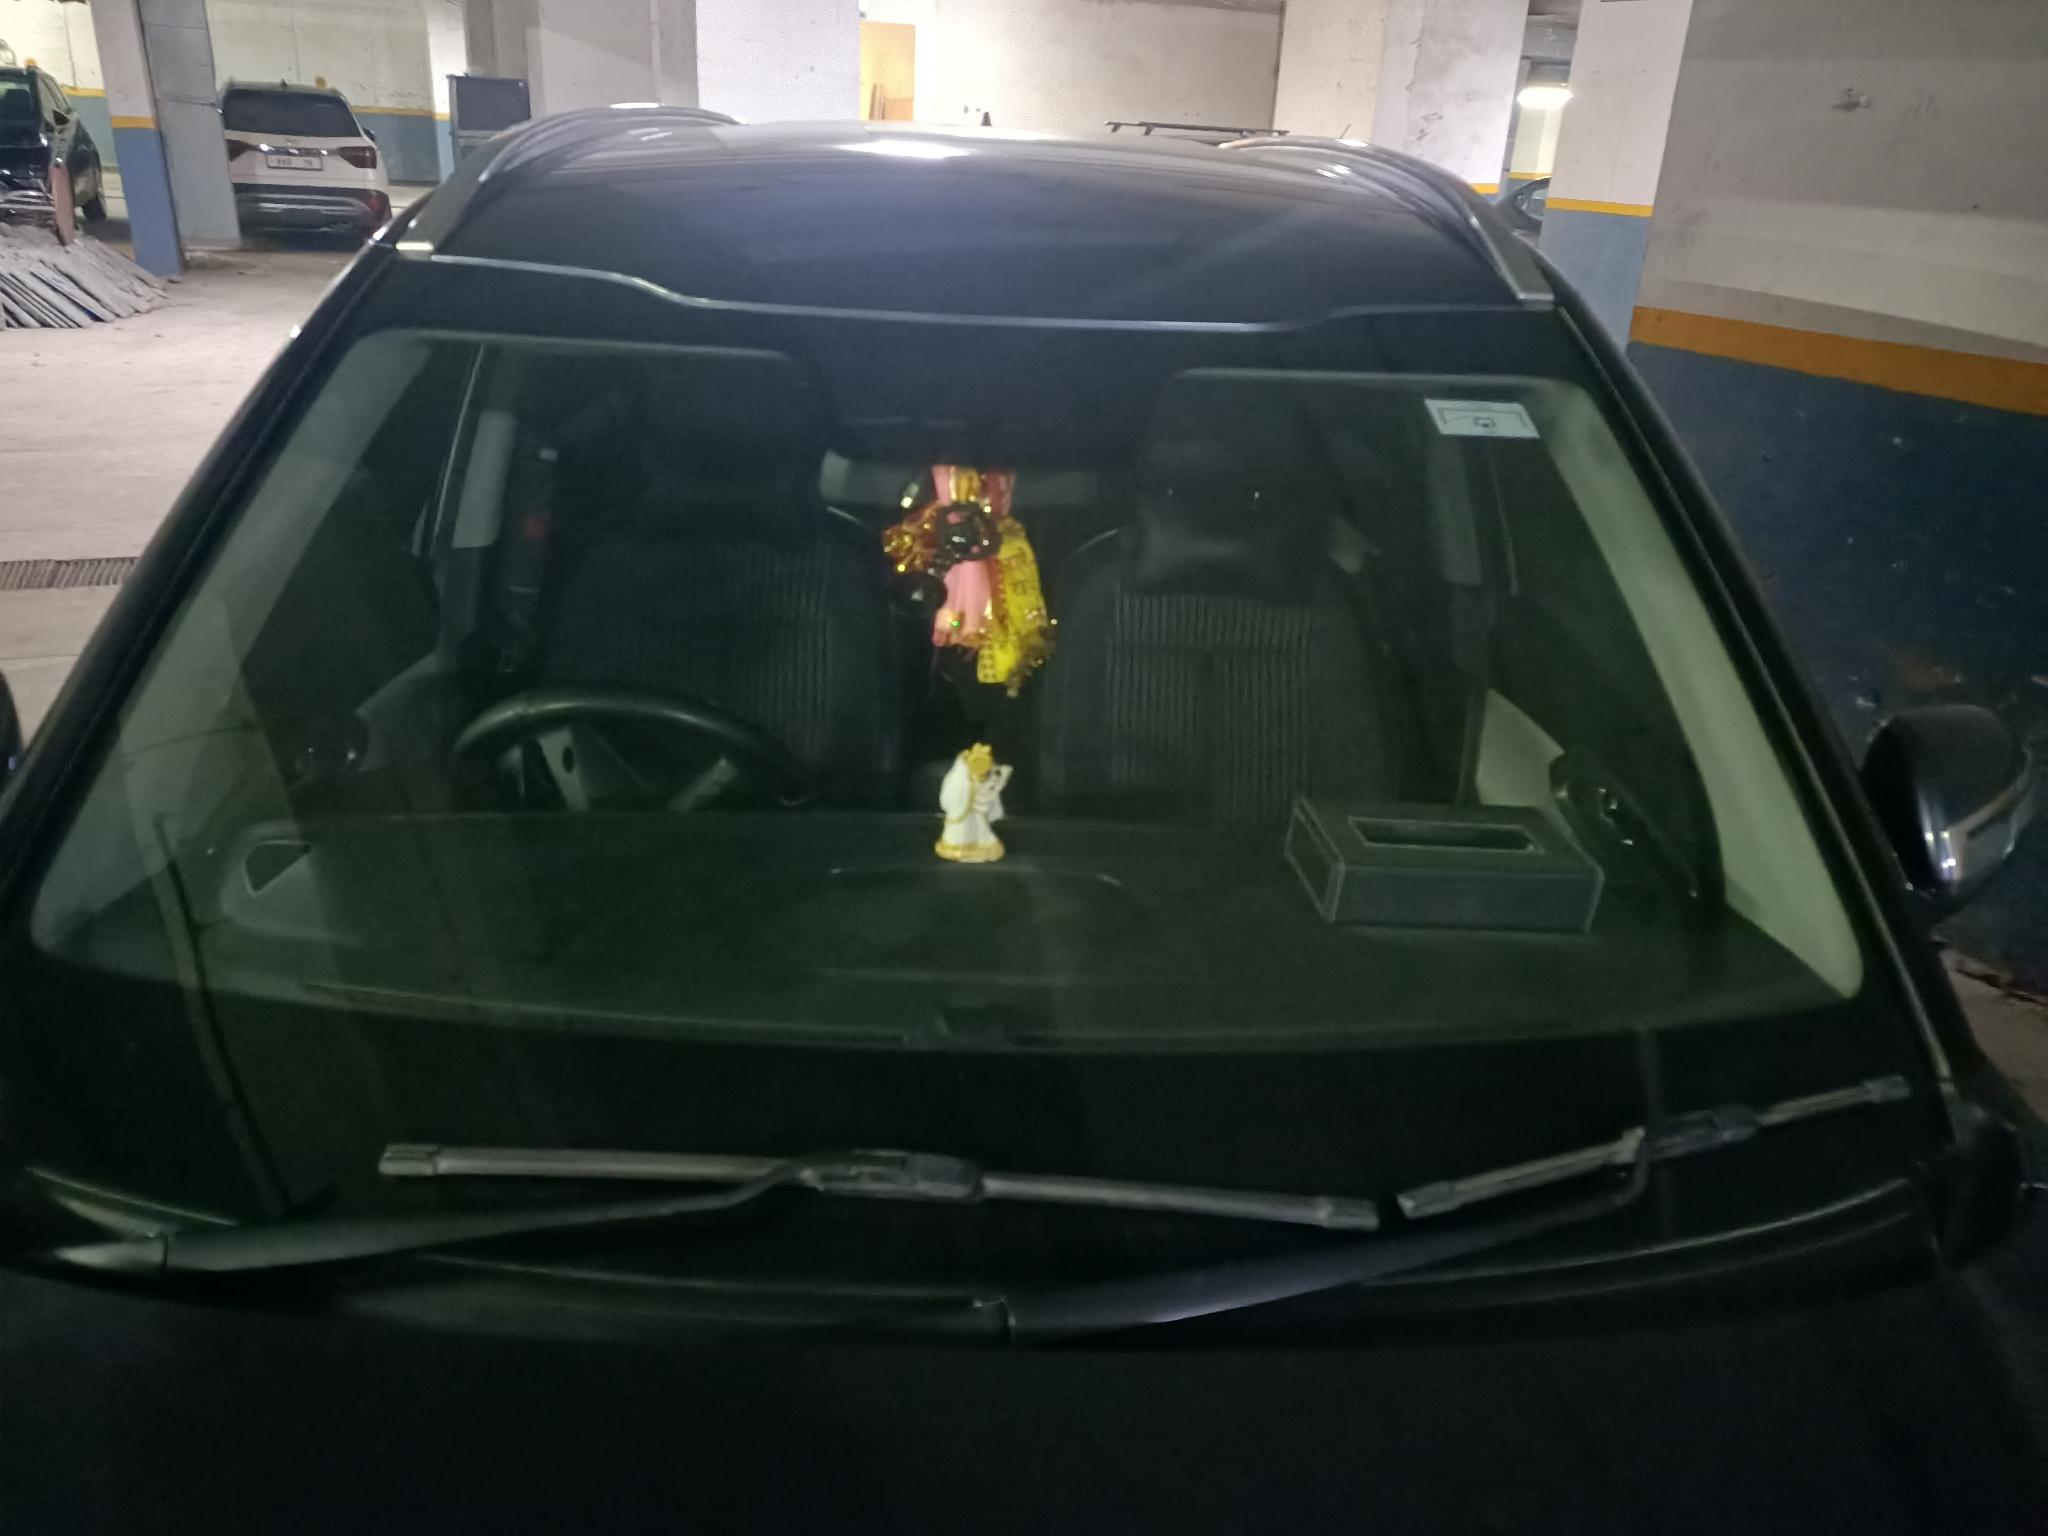FastTag: (1416, 395, 1550, 447)
